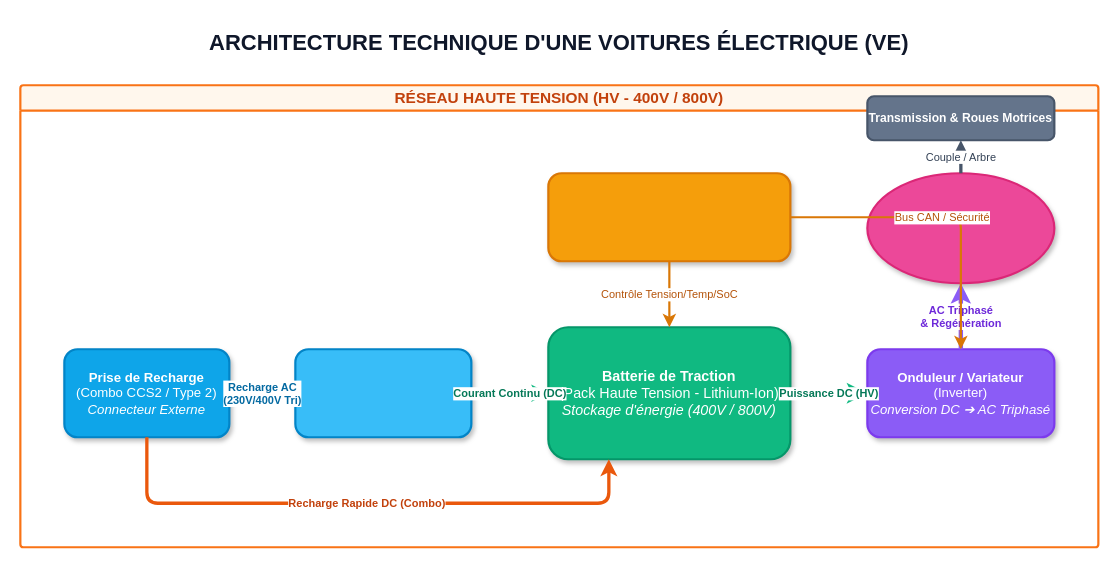
This 1118x567 diagram has some shape labels left out. Here are the shapes that lost their labels. From the top down, the centre of each, then its label:
(670,218): BMS (Battery Management System) Gestion, Température & Sécurité
(961,229): Moteur Électrique (Synchrone / Asynchrone) Traction & Freinage Régénératif
(384,394): Chargeur Embarqué (OBC - On-Board Charger) Conversion AC ➔ DC
